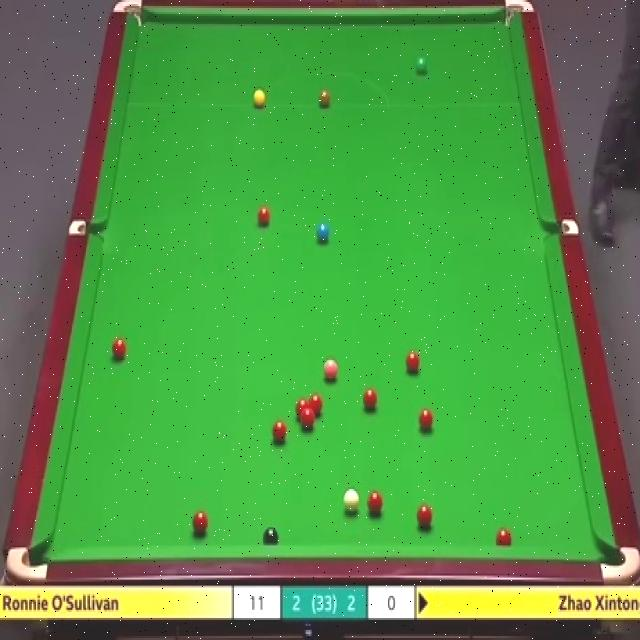black-ball: (262, 527, 281, 547)
blue-ball: (315, 223, 331, 244)
brown-ball: (318, 86, 331, 107)
green-ball: (412, 54, 428, 76)
pink-ball: (323, 359, 339, 384)
red-ball: (360, 386, 378, 412), (191, 509, 208, 536), (366, 492, 384, 517), (405, 350, 422, 376), (111, 338, 128, 364), (487, 526, 509, 545), (416, 505, 432, 529), (272, 420, 287, 445), (295, 398, 309, 424), (419, 408, 433, 434), (256, 205, 271, 229), (309, 394, 323, 418), (301, 411, 316, 431)
white-ball: (344, 490, 358, 514)
yellow-ball: (252, 89, 266, 108)
